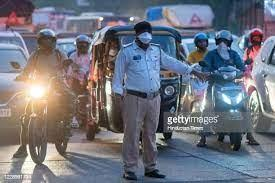helmet: (36, 28, 57, 53), (215, 29, 233, 49), (75, 34, 91, 54), (194, 32, 209, 52), (249, 29, 264, 47)
